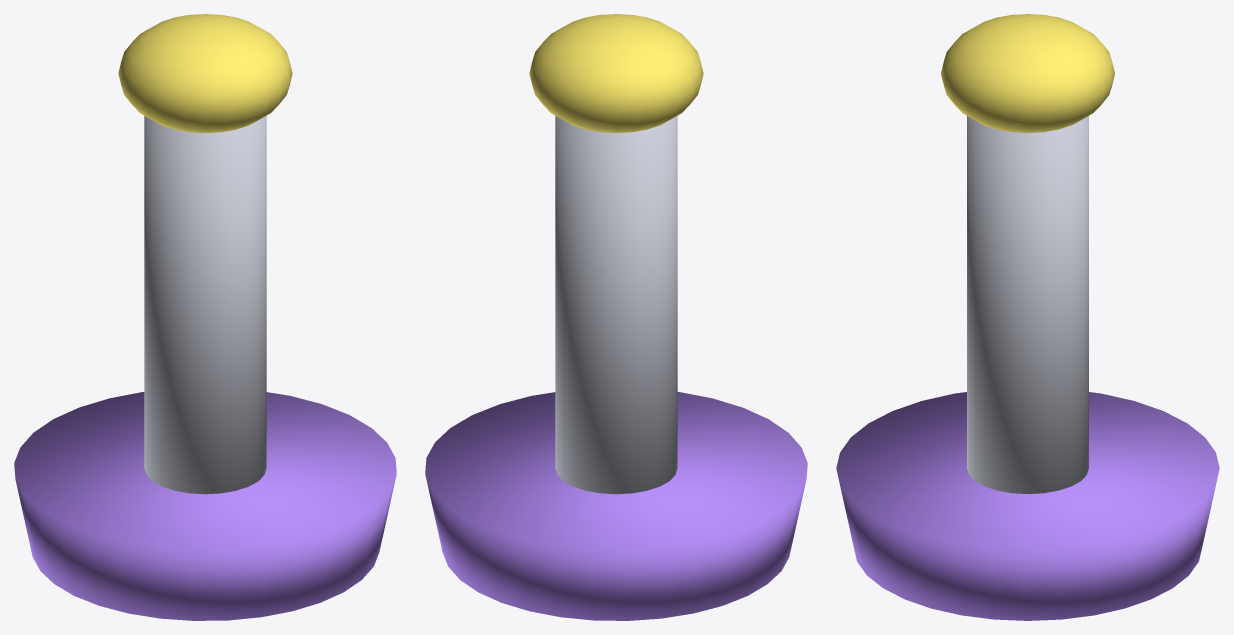
File: hub.glb
3 views of the same model, side by side, from view 1: azimuth 30°, elevation 25°; view 2: azimuth 150°, elevation 25°; view 3: azimuth 270°, elevation 25° (orthographic).
Parts seen in each view (by area): view 1: HubBase, HubPost, HubCap; view 2: HubBase, HubPost, HubCap; view 3: HubBase, HubPost, HubCap.
Part boxes in pixels (x1,y1,x2,y2): HubBase: (14,392,396,620); HubPost: (144,116,266,494); HubCap: (118,14,292,132); HubBase: (425,392,807,620); HubPost: (555,116,677,494); HubCap: (529,14,703,132); HubBase: (836,392,1219,620); HubPost: (967,116,1088,493); HubCap: (941,14,1114,132).
Size of the model in its own units: 2.2 by 3.3 by 2.2.
